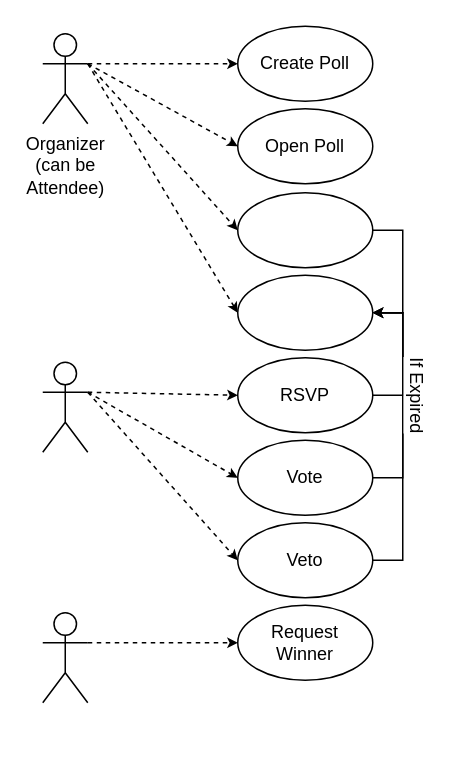
The diagram is 453 pixels wide and 761 high, and some of its shapes have lost their labels. The centre of each missing label's shape, as x and y in pixels:
Anyone: the point at 64,657
Attendee: the point at 64,406
Close Poll: the point at 304,312
Invite Attendee: the point at 304,229
